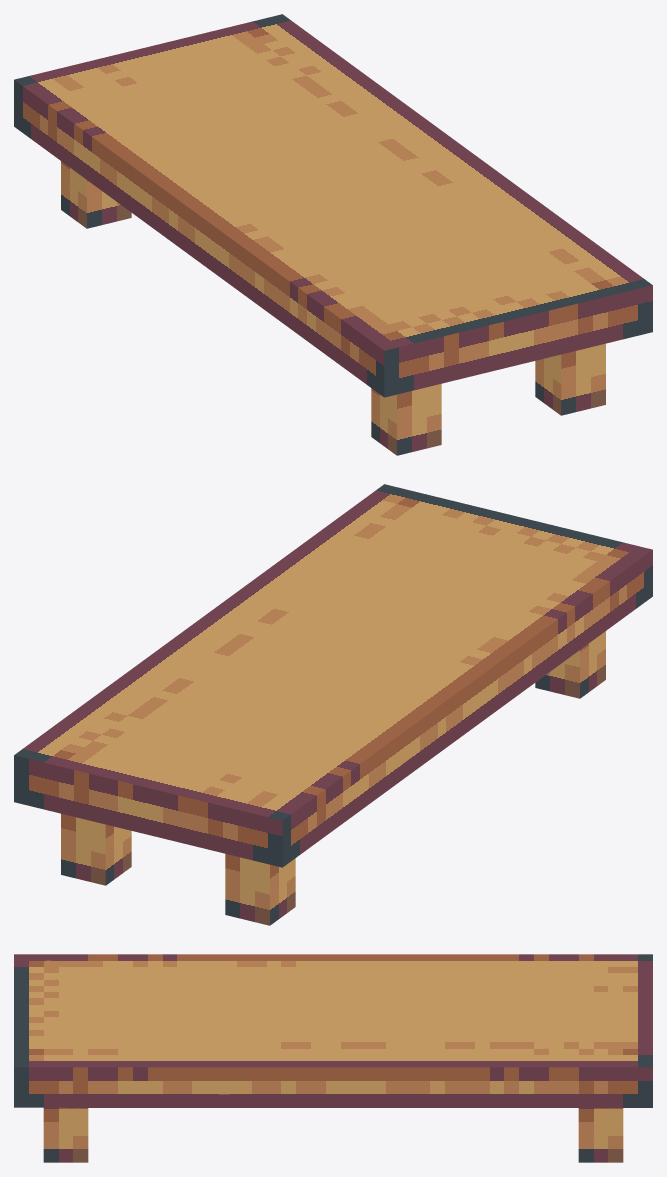
Rendered from Table.gltf.
3 renders of one model, top to bottom at view 1: azimuth 30°, elevation 25°; view 2: azimuth 150°, elevation 25°; view 3: azimuth 270°, elevation 25°, orthographic. The views are drawn at different scales.
Bounding box in the file's own units: 1.12 × 0.5001 × 2.69.
1 material, 1 textured.
